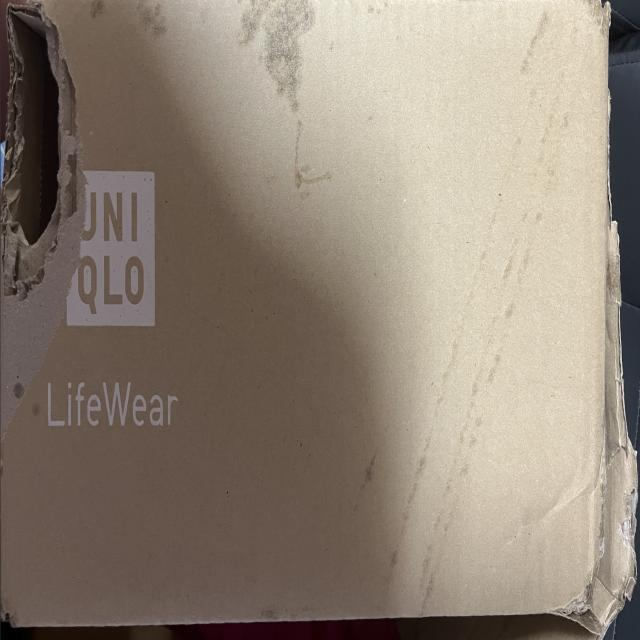hole: (6, 6, 79, 284)
